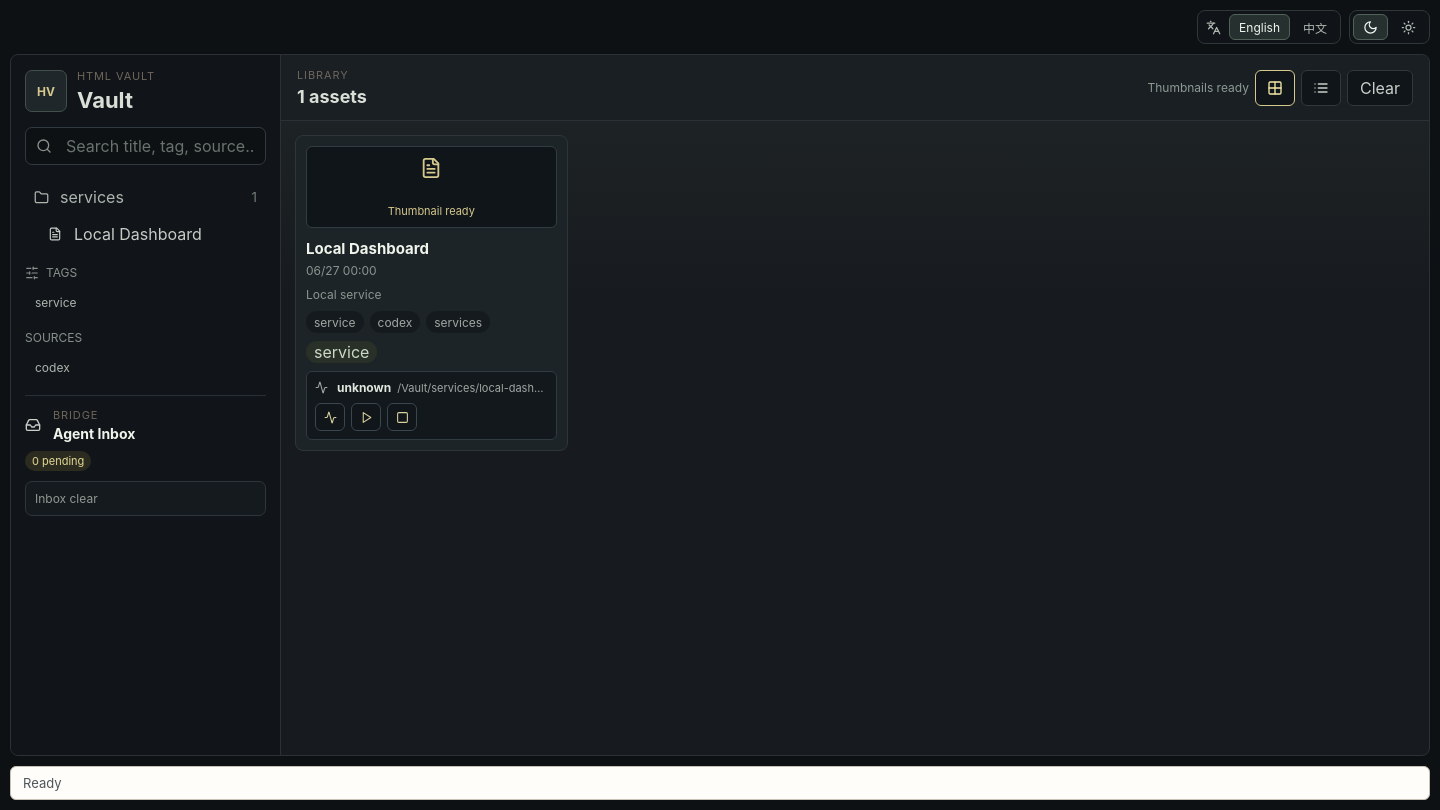
it: App workspace › checks, starts, and stops Vault services from the service card
Click the button named "Check service Local Dashboard".
click(330, 417)  # box [315,403,345,431]
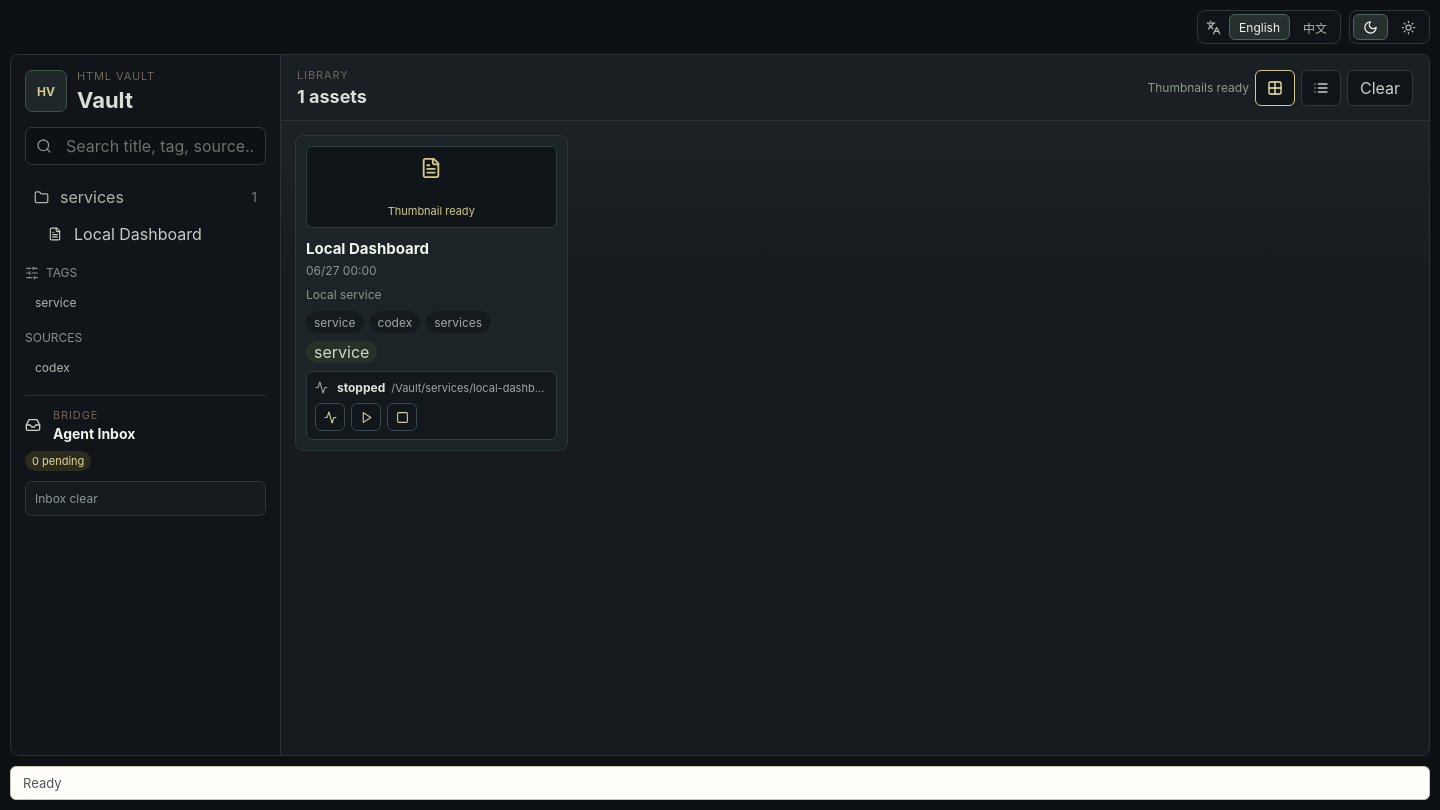
Check: the text "stopped" is shown, box [337,380,385,395]
Click the button named "Start service Local Dashboard".
click(366, 417)  # box [351,403,381,431]
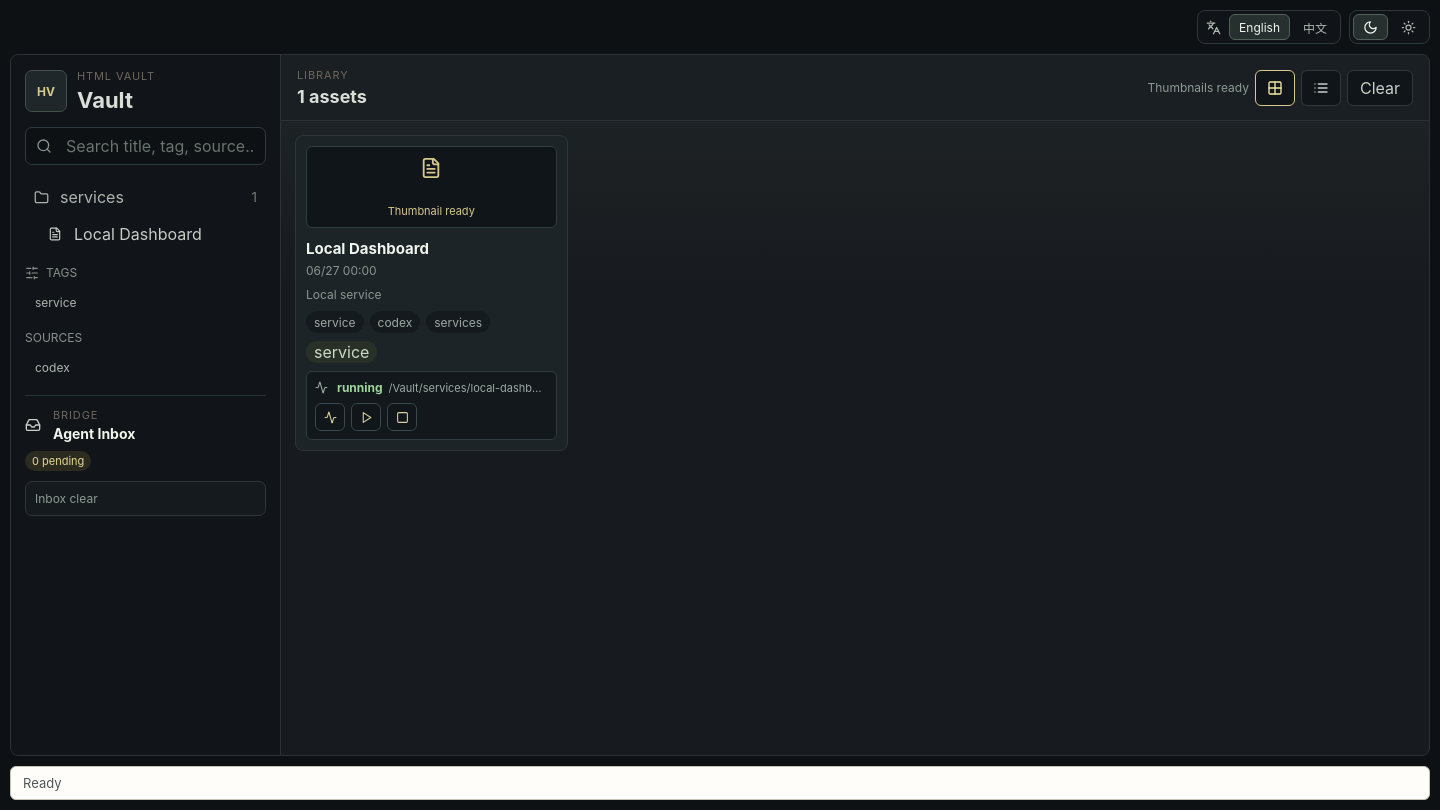
Check: the text "running" is shown, box [337,380,383,395]
Click the button named "Stop service Local Dashboard".
click(402, 417)  # box [387,403,417,431]
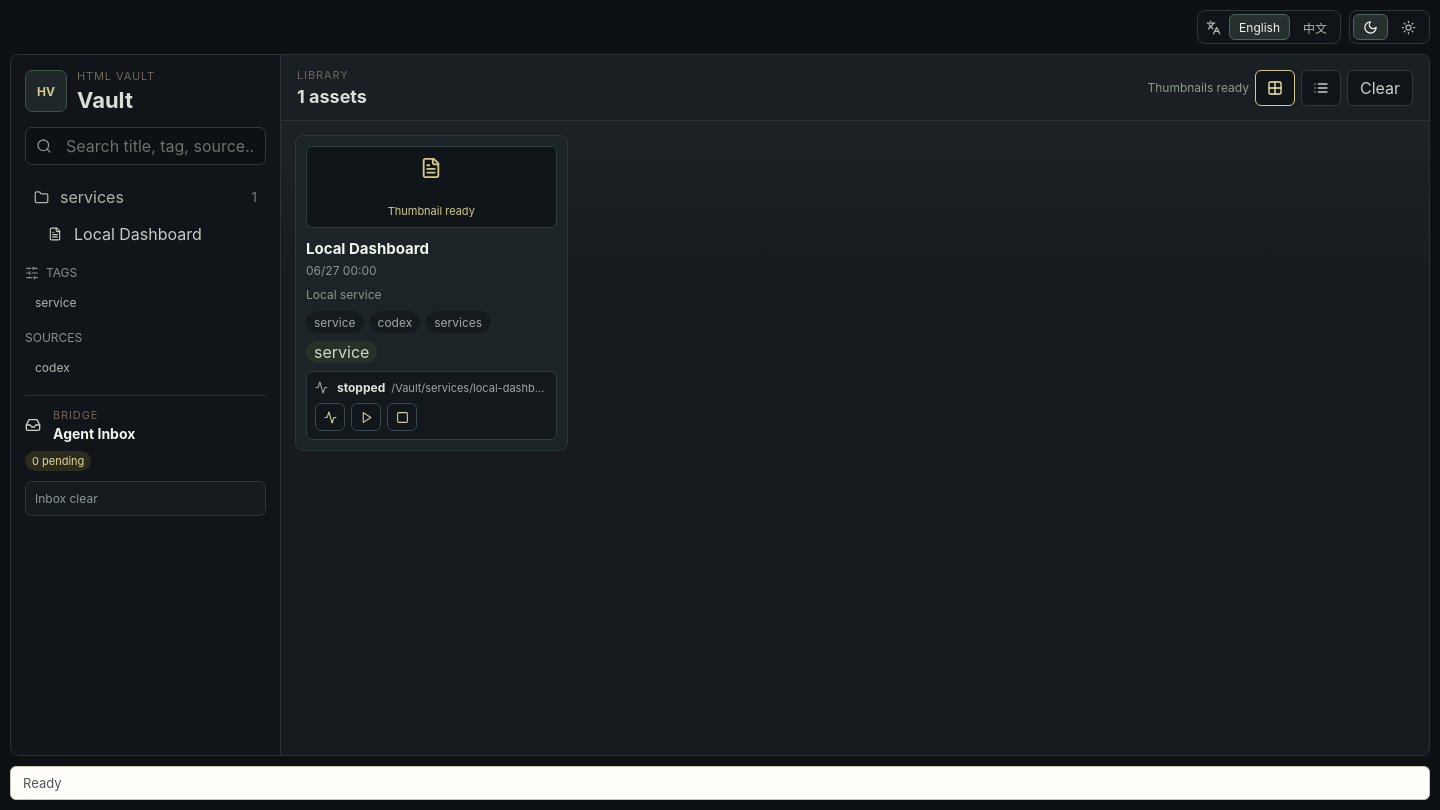
Check: the text "stopped" is shown, box [337,380,385,395]
